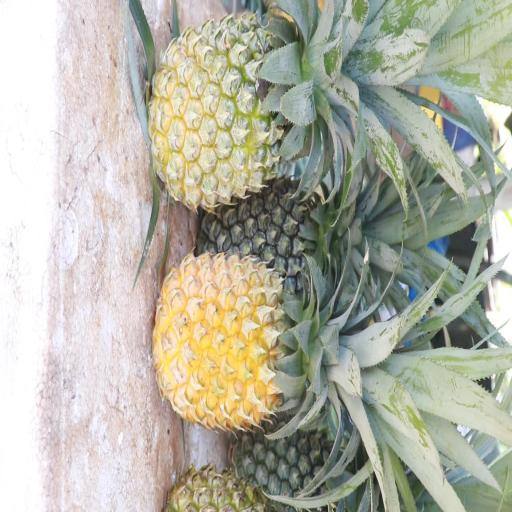------------------------------: (152, 23, 318, 201)
Pineapple - v8 v1: (160, 259, 332, 429)
